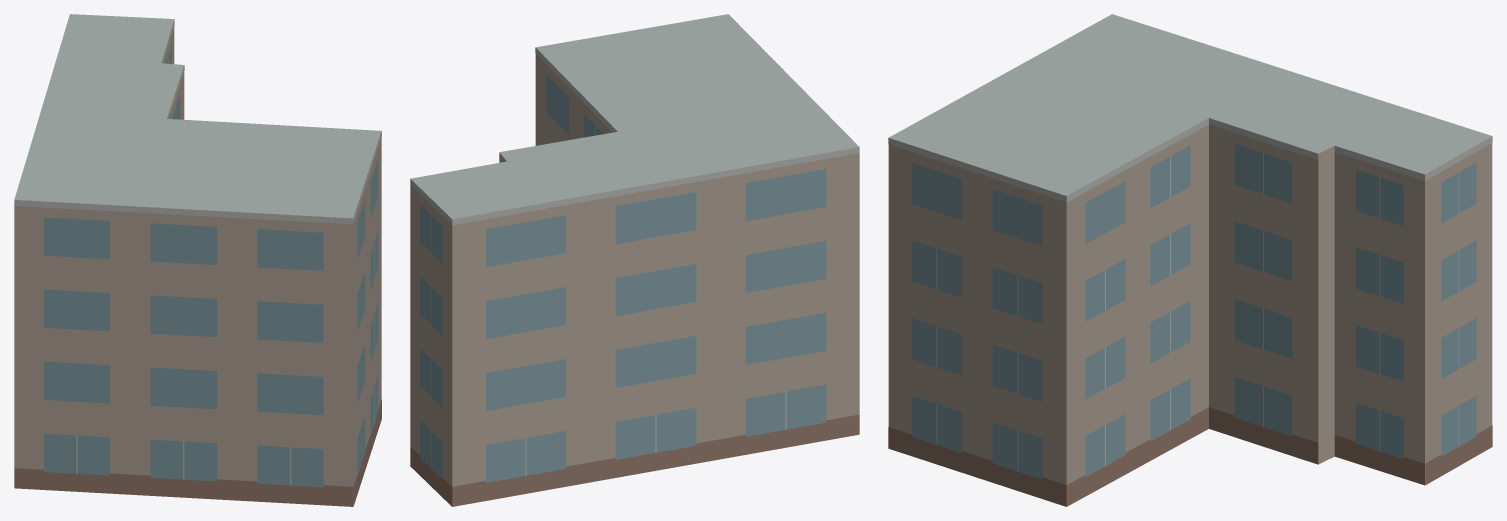
The model's file is survey-upis-33032306.glb.
3 renders of one model, left to right at view 1: azimuth 30°, elevation 25°; view 2: azimuth 150°, elevation 25°; view 3: azimuth 270°, elevation 25°, orthographic. The views are drawn at different scales.
Visible parts, largest first — view 1: survey-upis-33032306.tmp; view 2: survey-upis-33032306.tmp; view 3: survey-upis-33032306.tmp.
Boxes of the visible parts, left/top/right/bottom form: survey-upis-33032306.tmp: left=14, top=14, right=381, bottom=506; survey-upis-33032306.tmp: left=410, top=14, right=859, bottom=506; survey-upis-33032306.tmp: left=888, top=14, right=1492, bottom=506.
Bounding box in the file's own units: 14.7 × 11.7 × 20.61.
